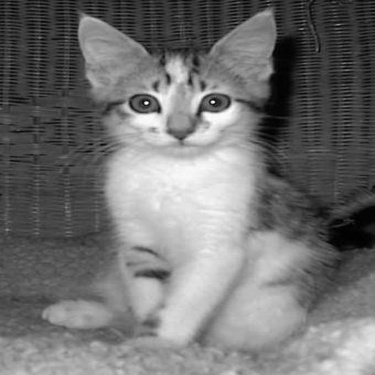cat: (34, 5, 350, 359)
